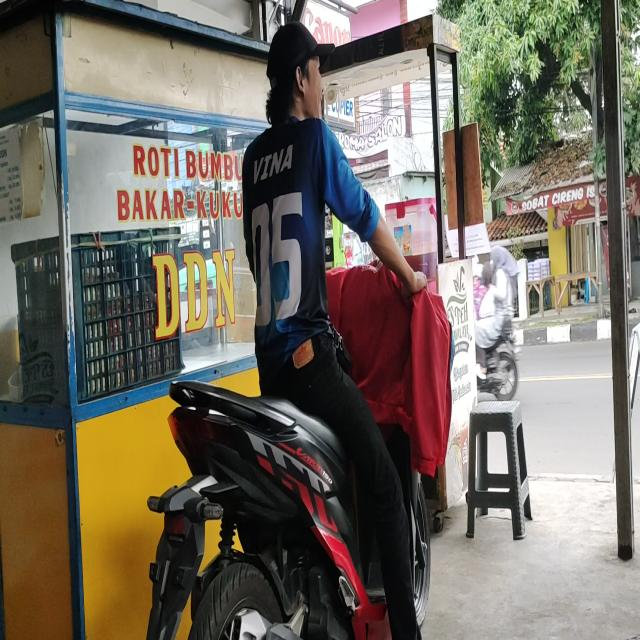no-helmet: (266, 15, 334, 123)
